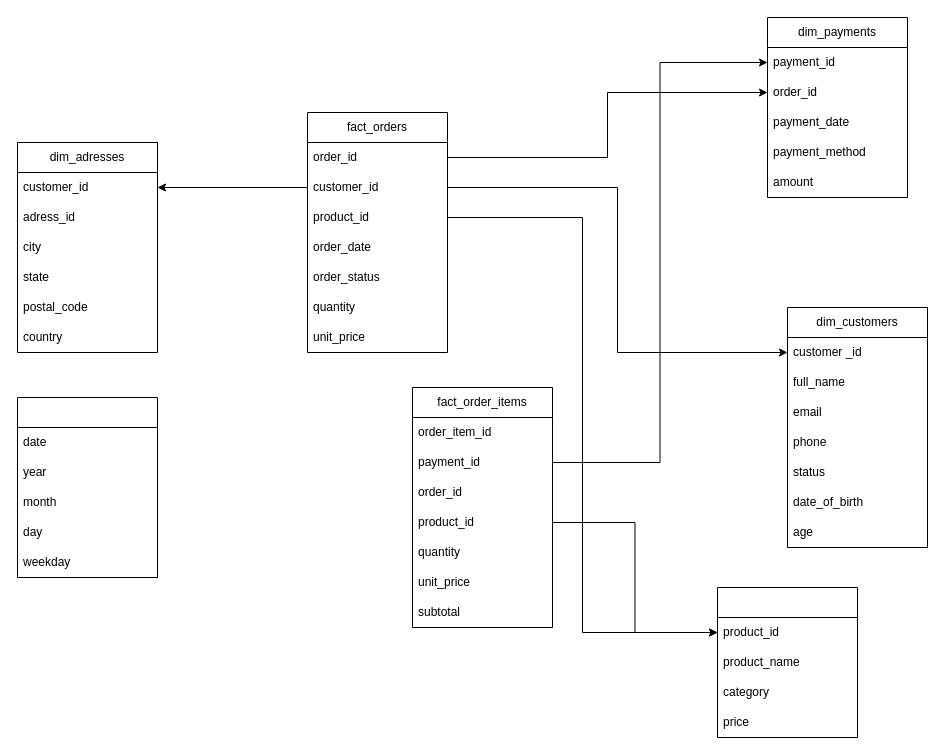
Image size: 945x755. Some labels were removed from this diagram. Here are the shapes that lost their labels. From the top down, the box of each, then its label:
(16, 396, 158, 578): dim_date
(716, 586, 858, 738): dim_products
